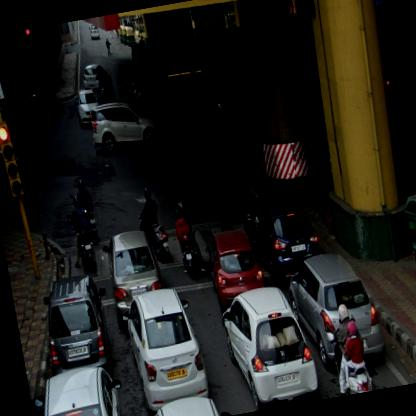bus: (124, 37, 208, 106)
car: (216, 280, 322, 414), (283, 244, 388, 374), (117, 282, 212, 415), (35, 270, 119, 375), (238, 188, 324, 290), (100, 225, 170, 326), (26, 360, 131, 415), (202, 226, 268, 312), (86, 93, 166, 157), (72, 87, 102, 131), (80, 61, 110, 92), (88, 21, 100, 39)
motorcycle: (324, 299, 374, 395), (132, 185, 172, 266), (59, 193, 98, 270), (170, 198, 205, 282), (70, 177, 100, 247), (143, 93, 166, 124), (94, 73, 116, 103)
